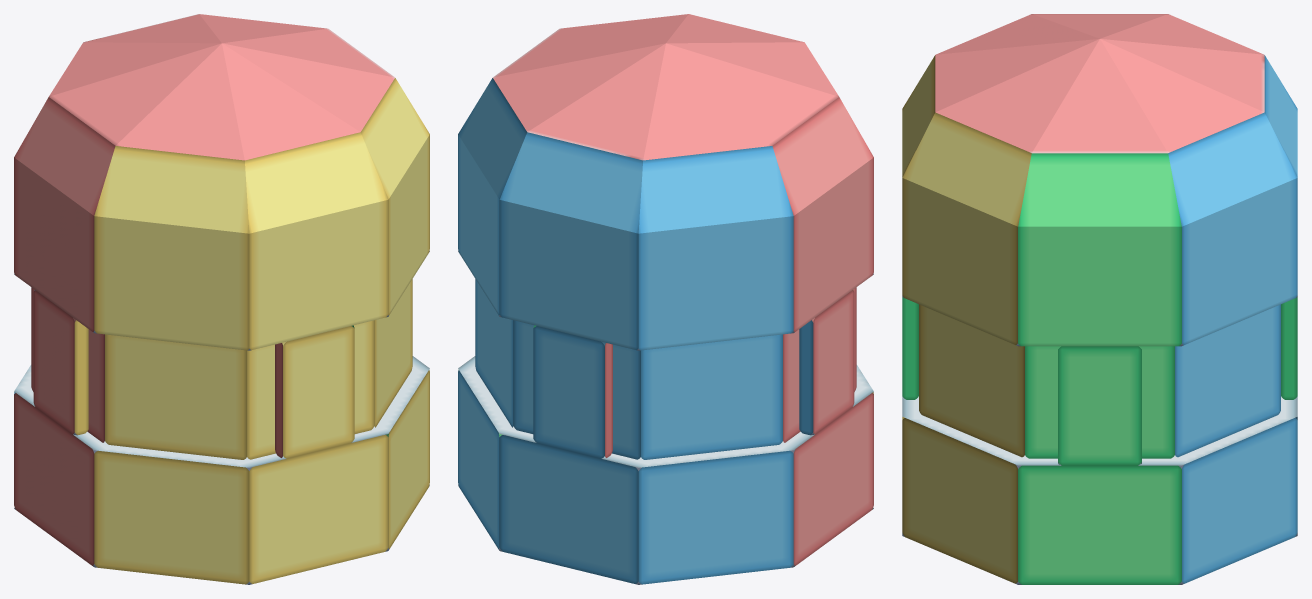
The model's file is cryo_liquid_tank.obj.
3 views of the same model, side by side, from view 1: azimuth 30°, elevation 25°; view 2: azimuth 150°, elevation 25°; view 3: azimuth 270°, elevation 25° (orthographic).
Parts seen in each view (by area): view 1: cap_t, cap_b, body, side_frame; view 2: cap_t, cap_b, body, side_frame; view 3: cap_t, cap_b, body, side_frame.
Part boxes in pixels (x1=…): cap_t: x1=14, y1=14, x2=429, y2=350; cap_b: x1=14, y1=356, x2=429, y2=584; body: x1=31, y1=279, x2=412, y2=459; side_frame: x1=33, y1=290, x2=354, y2=458; cap_t: x1=458, y1=14, x2=873, y2=350; cap_b: x1=458, y1=356, x2=873, y2=584; body: x1=475, y1=279, x2=856, y2=459; side_frame: x1=533, y1=290, x2=854, y2=458; cap_t: x1=902, y1=14, x2=1297, y2=346; cap_b: x1=902, y1=396, x2=1297, y2=584; body: x1=919, y1=304, x2=1280, y2=458; side_frame: x1=902, y1=297, x2=1297, y2=465.
Bounding box in the file's own units: 1.5 × 1.94 × 1.5.
Materials: 1 (1 with a texture image).
